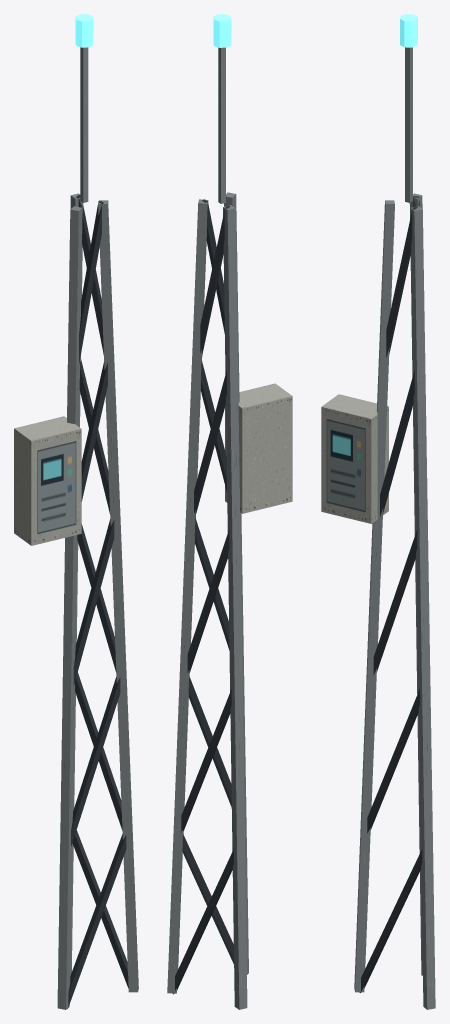
Rendered from CommunicationsMast.fbx.
3 views of the same model, side by side, from view 1: azimuth 30°, elevation 25°; view 2: azimuth 210°, elevation 25°; view 3: azimuth 330°, elevation 25° (orthographic).
Visible parts, largest first — view 1: CommunicationsMast; view 2: CommunicationsMast; view 3: CommunicationsMast.
Part boxes in pixels (x1,y1,x2,y2): CommunicationsMast: (14, 14, 138, 1009); CommunicationsMast: (167, 14, 292, 1009); CommunicationsMast: (321, 14, 435, 1009).
Size of the model in its own units: 221 by 1852 by 134.
